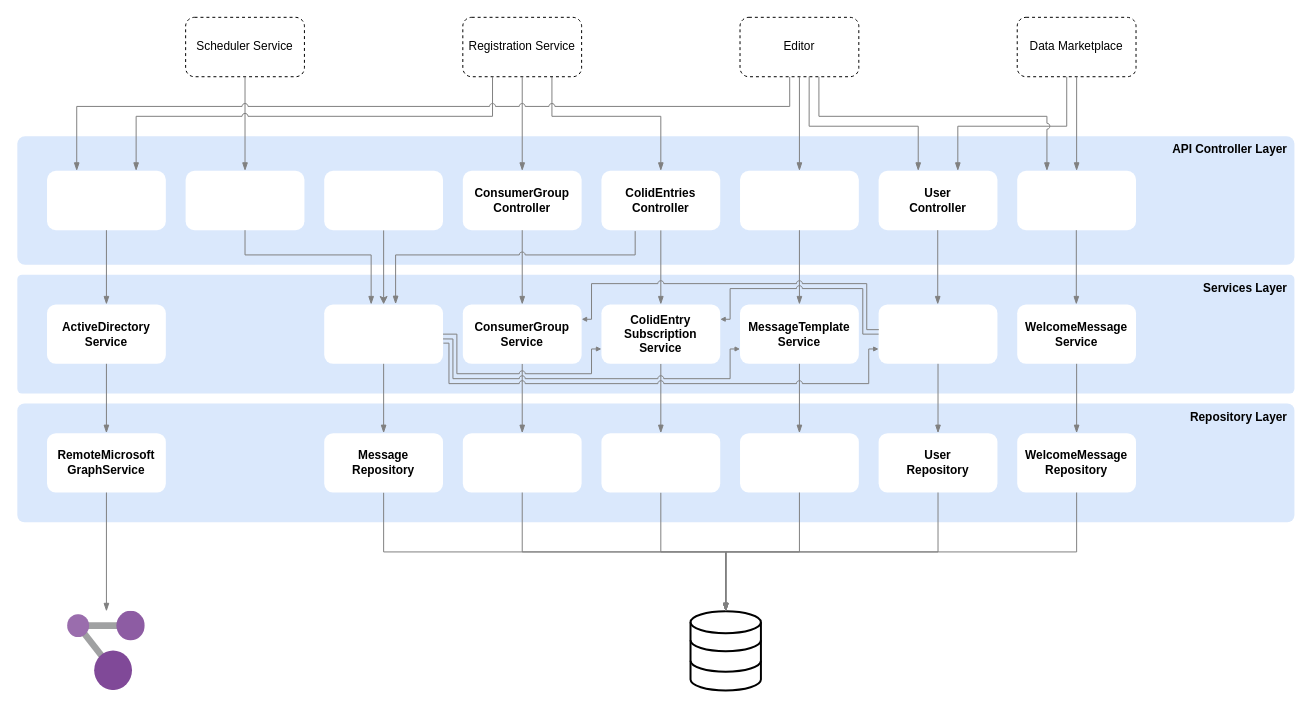
Some shapes in this 1311 by 709 pixel diagram are drawn without their labels. The shapes that lost their labels are listed below. From the top down, each one's centre as x and y in pixels, then its label:
point 106,200: ActiveDirectory Controller
point 244,200: Scheduler Controller
point 383,200: Messages Controller
point 799,200: MessageTemplate Controller
point 1076,200: WelcomeMessage Controller
point 383,333: Message Service
point 937,333: User Service
point 521,462: ConsumerGroup Repository
point 660,462: ColidEntry Subscription Repository
point 799,462: MessageTemplate Repository
